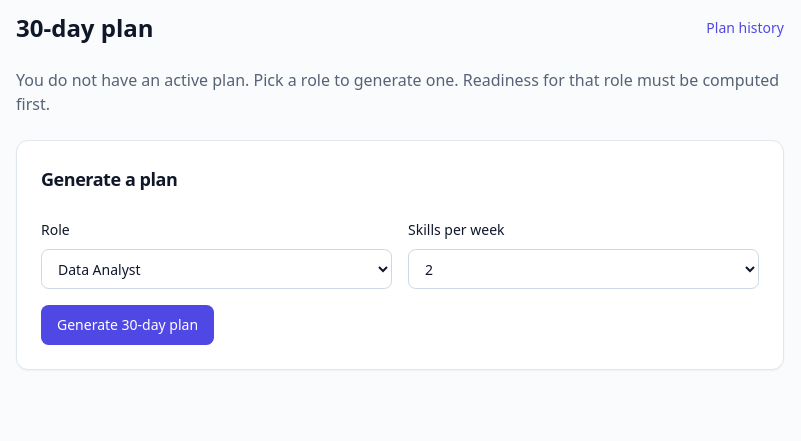
Test: PlanPage › shows the 409 message when generating without computed readiness
Expected: the text with test id "no-plan" is shown, [16,68,784,116]
Expected: the dropdown labelled "Role" shows "Data Analyst", [41,249,392,289]
Select "3" in the dropdown labelled "Skills per week". click: (584, 269)
box: [408,249,759,289]
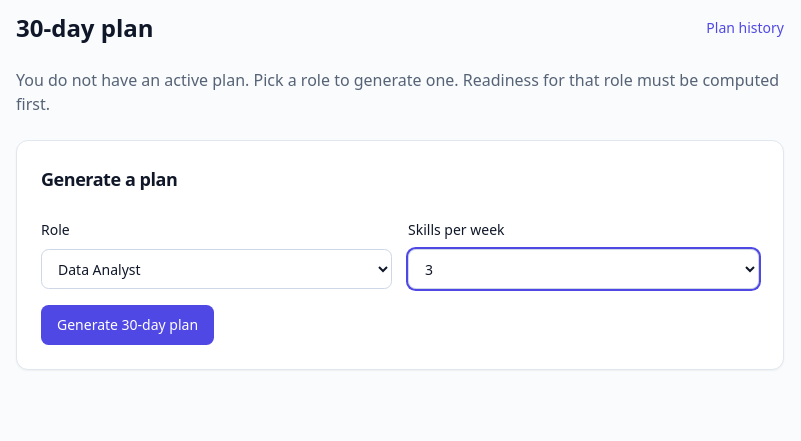
Click the button "Generate 30-day plan". click: (128, 325)
box: [41,305,214,345]
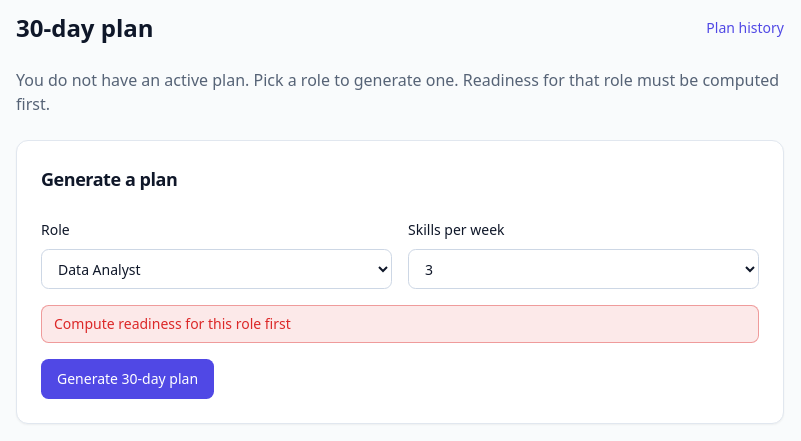
Expected: the message reads "Compute readiness for this role first", [54,314,291,333]
